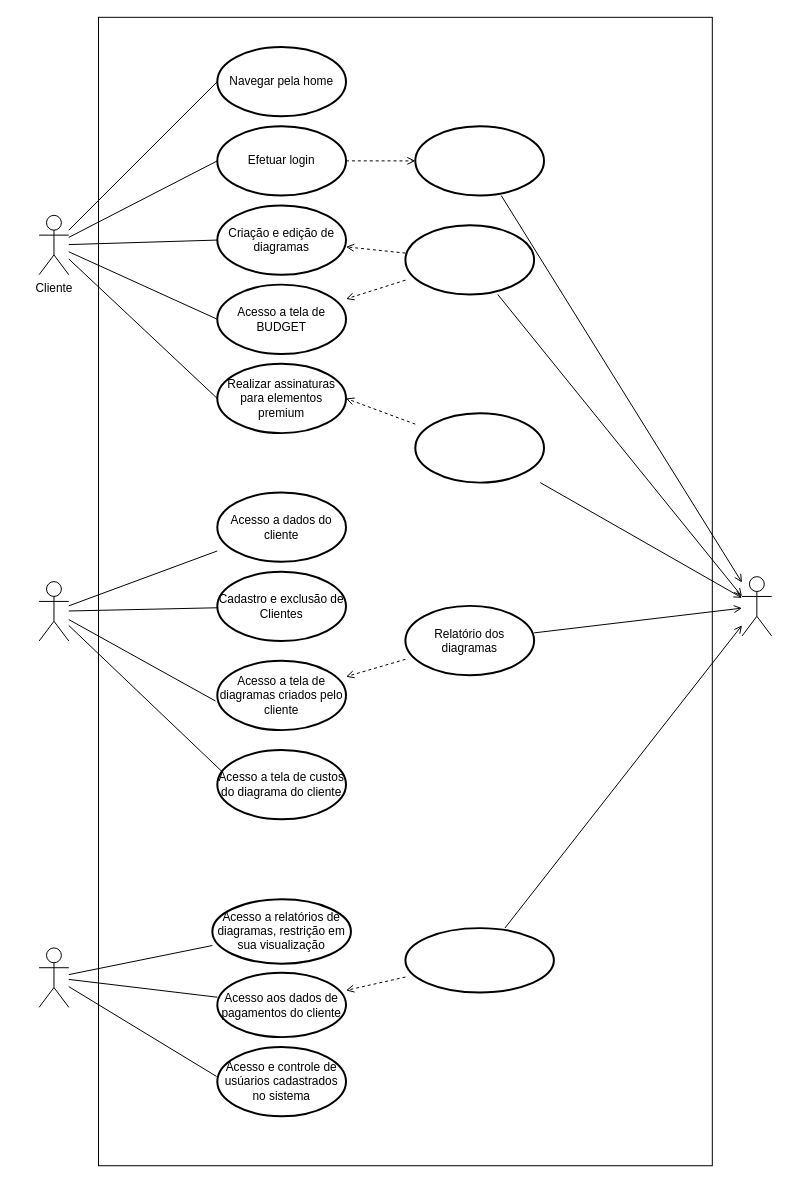
The diagram is 795 pixels wide and 1183 high, and some of its shapes have lost their labels. The shapes that lost their labels are listed below. From the top down, each one's centre as x and y in pixels, then its label:
At (479,160): "Verificar senha".
At (469,259): "Criação de relatórios de diagramas".
At (479,447): "Preencher dados do cartão".
At (53,611): "Empresa".
At (756,606): "Sistema".
At (53,977): "Administrador".
At (479,960): "Geração de dashboards de diagramas cadastrados".
